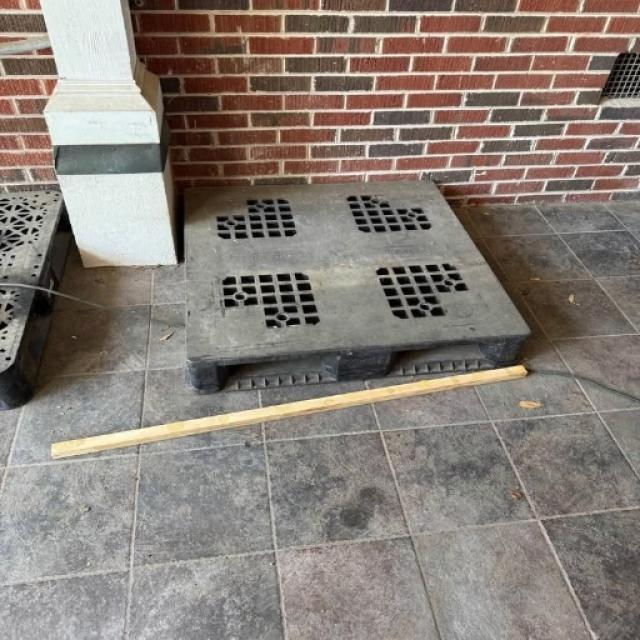non-igps: (170, 174, 541, 403), (0, 186, 77, 416)
